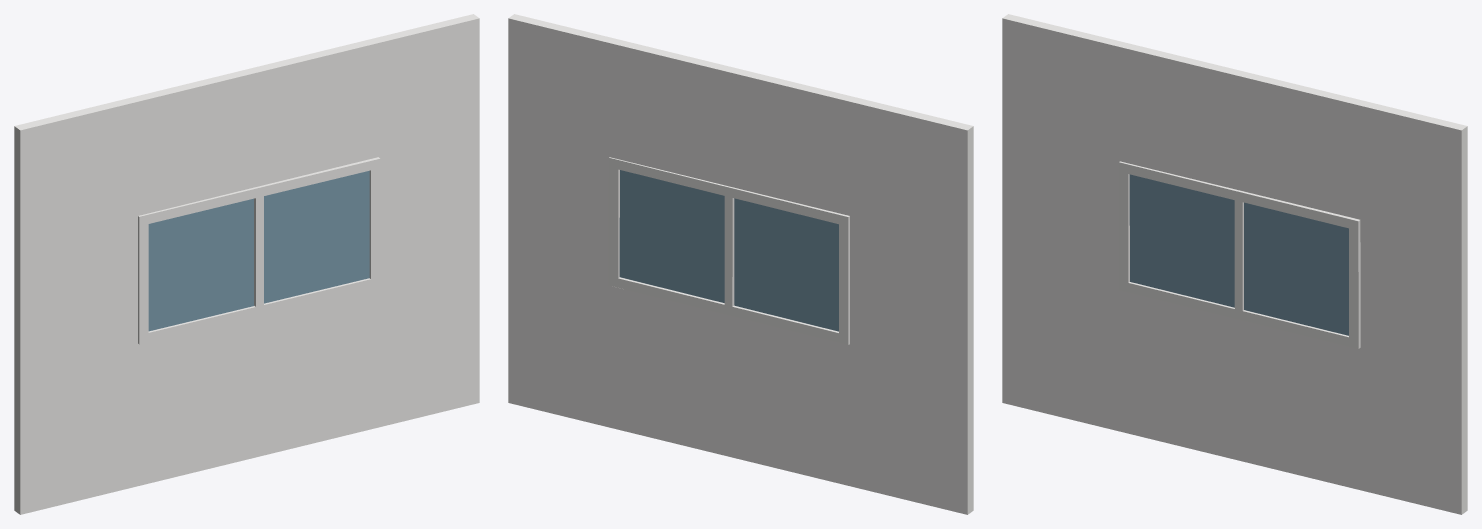
File: Wall_11.fbx
3 renders of one model, left to right at view 1: azimuth 30°, elevation 25°; view 2: azimuth 150°, elevation 25°; view 3: azimuth 330°, elevation 25°, orthographic.
Visible parts, largest first — view 1: Wall_11; view 2: Wall_11; view 3: Wall_11.
Boxes of the visible parts, bbox=[...] form: Wall_11: bbox=[14, 14, 479, 514]; Wall_11: bbox=[508, 14, 973, 514]; Wall_11: bbox=[1002, 14, 1467, 514].
Size of the model in its own units: 490 by 17.86 by 392.
